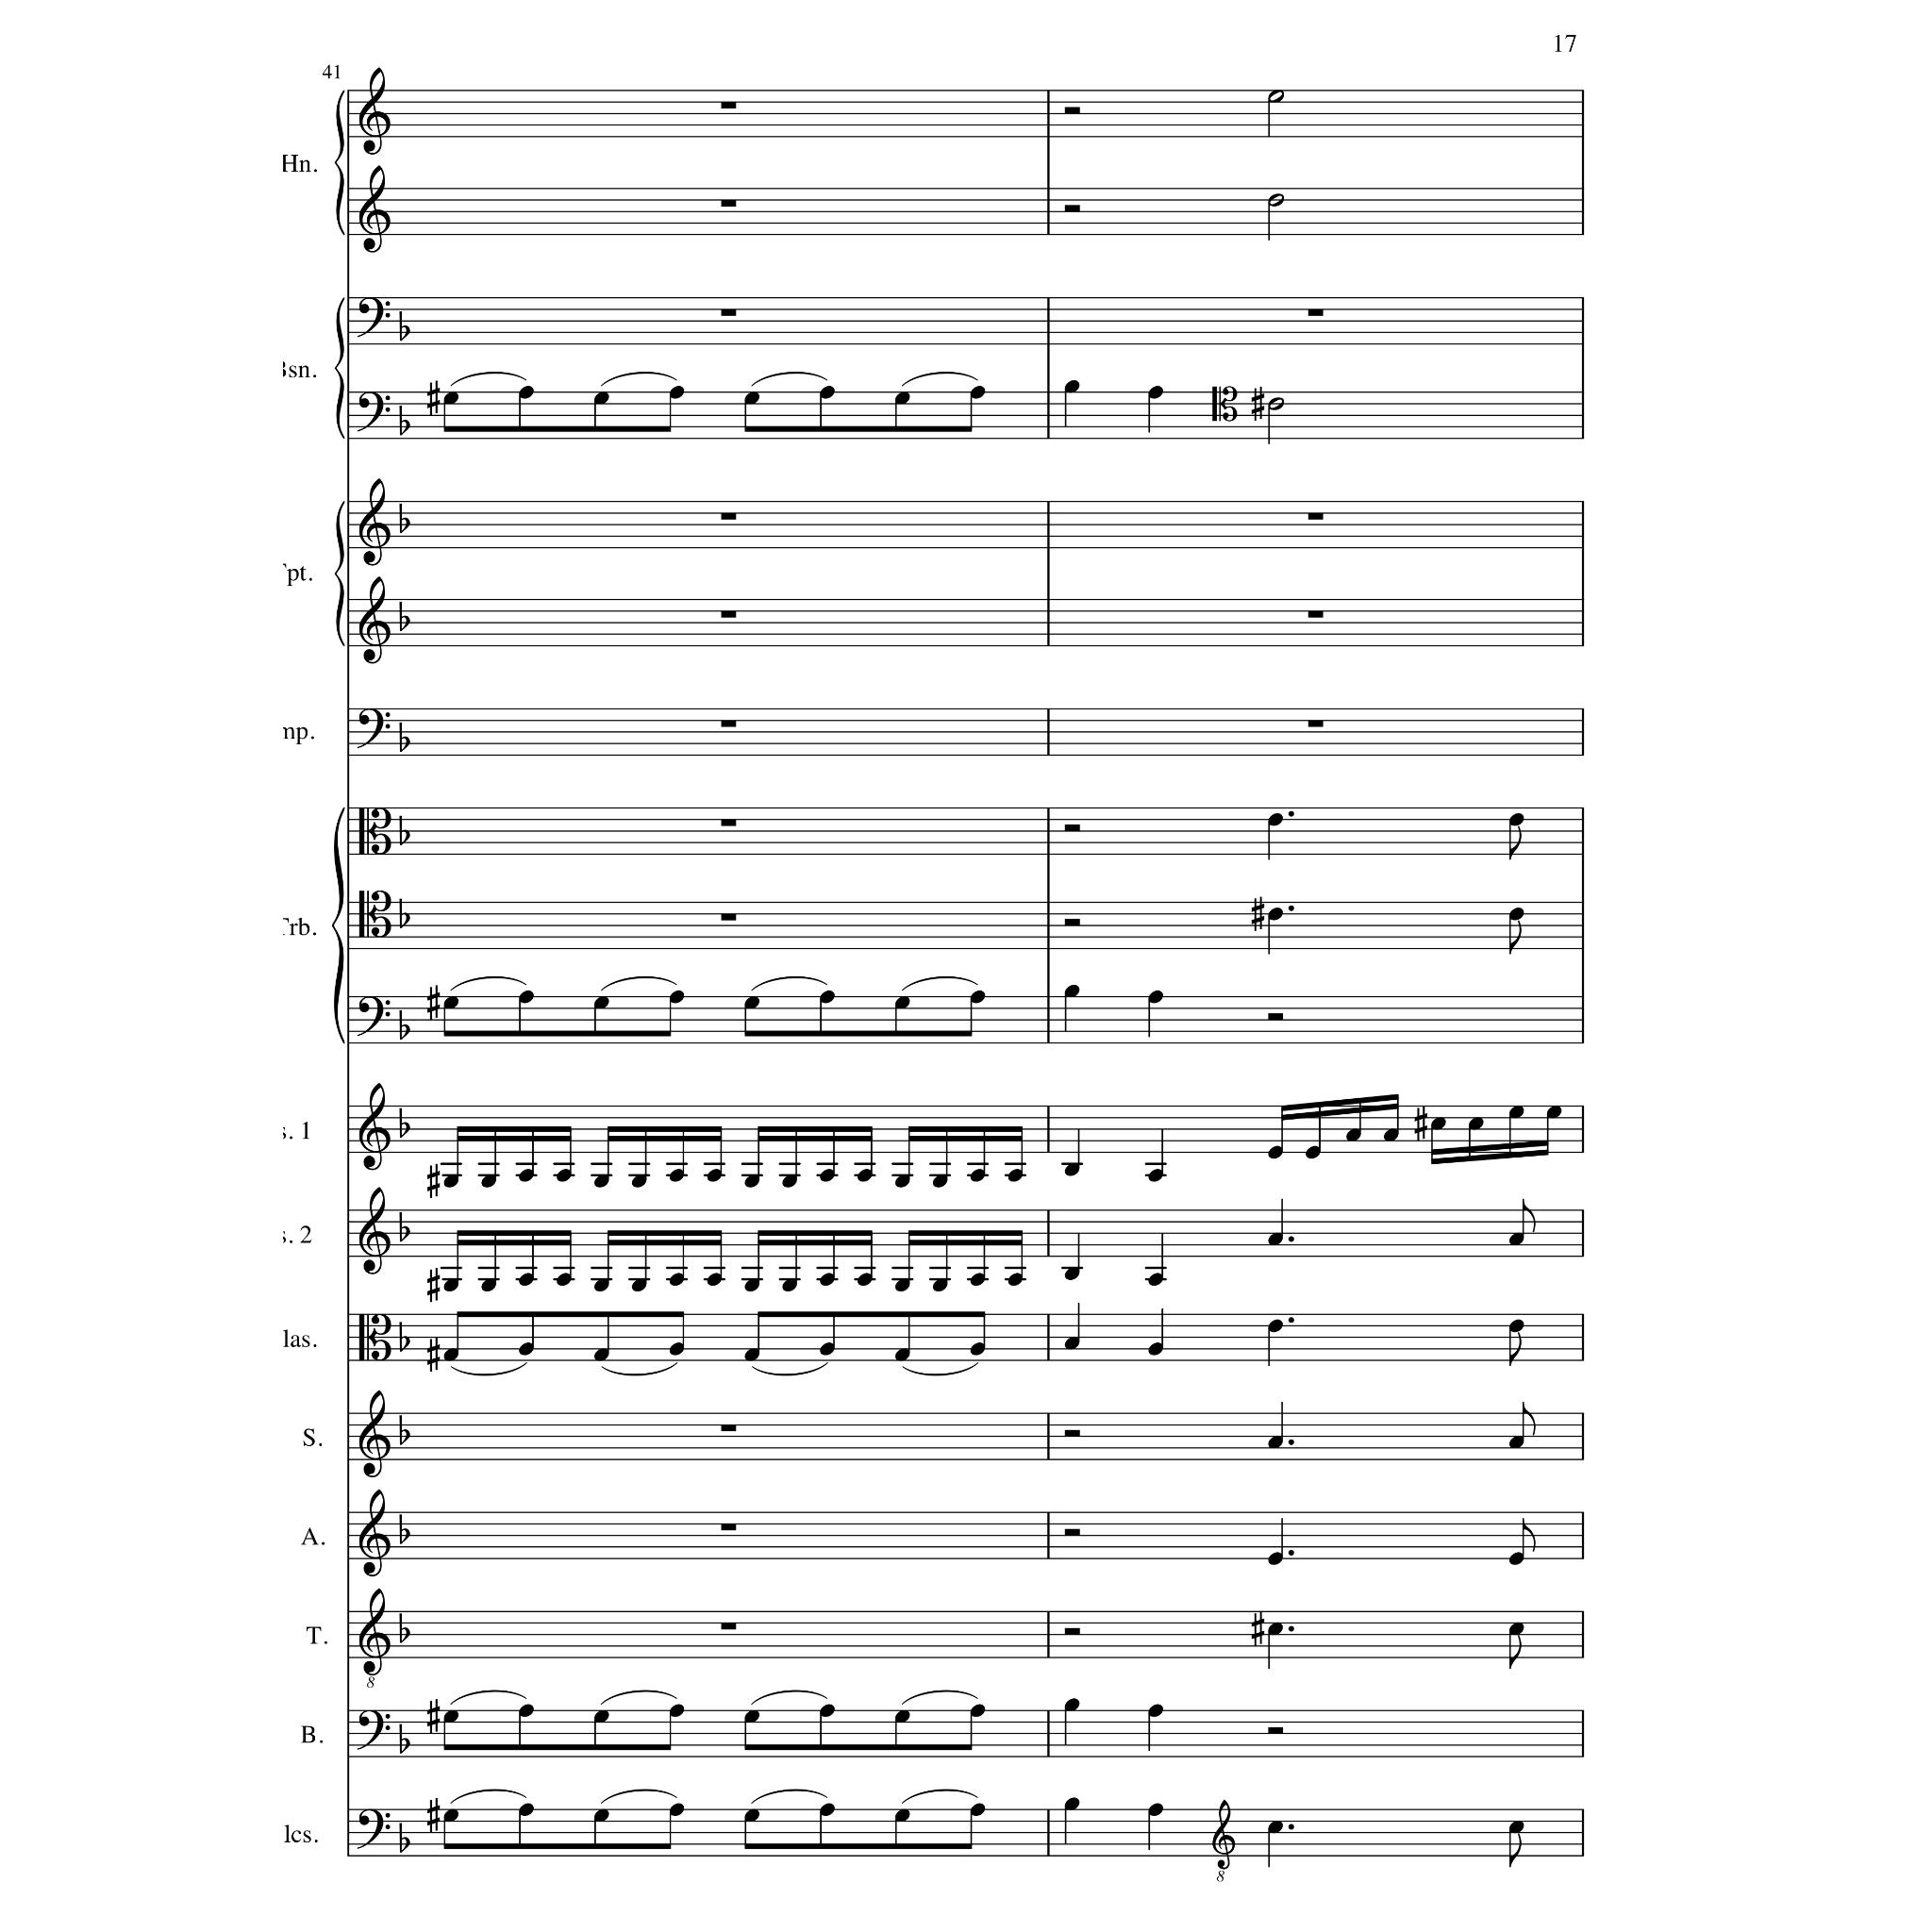brace: (330, 808, 345, 1045), (334, 502, 345, 647), (334, 91, 345, 236), (334, 298, 345, 440)
fClef: (357, 1709, 391, 1751), (357, 996, 391, 1038), (357, 1809, 391, 1849), (357, 392, 391, 432), (357, 298, 391, 338), (357, 709, 391, 749)
flag8thDown: (1509, 1832, 1521, 1868), (1509, 1332, 1521, 1366), (1509, 1635, 1521, 1669), (1509, 826, 1521, 860), (1509, 921, 1521, 955)
flag8thUp: (1523, 1402, 1536, 1436), (1523, 1519, 1536, 1553), (1523, 1199, 1536, 1233)
gClef: (358, 165, 391, 254), (358, 67, 391, 156), (358, 1187, 391, 1275), (358, 1390, 391, 1478), (358, 1083, 391, 1172), (358, 1588, 391, 1676), (358, 1489, 391, 1577), (358, 478, 391, 567), (358, 576, 391, 665)
noteheadBlack: (592, 391, 609, 406), (592, 1347, 609, 1362), (894, 1347, 911, 1362), (894, 391, 911, 406), (743, 391, 760, 406), (743, 1347, 760, 1362), (1268, 1319, 1283, 1334), (1268, 1232, 1283, 1247), (1268, 1551, 1283, 1566), (1064, 1796, 1079, 1811), (1509, 1232, 1524, 1247), (1509, 1551, 1524, 1566), (1509, 1319, 1524, 1334), (443, 1347, 458, 1362), (443, 391, 458, 406), (1147, 1804, 1164, 1817), (1147, 1704, 1164, 1717), (1147, 1342, 1164, 1356), (1147, 1274, 1164, 1287), (1147, 1169, 1164, 1182), (1147, 991, 1164, 1004), (1147, 386, 1164, 399), (1545, 1106, 1562, 1119), (1345, 1128, 1362, 1141), (1430, 1117, 1447, 1130), (592, 1174, 609, 1188), (592, 1808, 609, 1822), (592, 1710, 609, 1724), (592, 1279, 609, 1292), (592, 996, 609, 1009), (517, 1342, 534, 1356), (517, 1804, 534, 1817), (517, 1704, 534, 1717), (517, 1274, 534, 1287), (517, 1169, 534, 1182), (517, 991, 534, 1004), (517, 386, 534, 399), (781, 1279, 798, 1292), (781, 1174, 798, 1188), (819, 1804, 836, 1817), (819, 1704, 836, 1717), (819, 1342, 836, 1356), (819, 1274, 836, 1287), (819, 1169, 836, 1182), (819, 991, 836, 1004), (819, 386, 836, 399), (894, 1710, 911, 1724), (894, 1279, 911, 1292), (894, 1174, 911, 1188), (894, 996, 911, 1009), (894, 1808, 911, 1822), (668, 1804, 685, 1817), (668, 1704, 685, 1717), (668, 1342, 685, 1356), (668, 1274, 685, 1287), (668, 1169, 685, 1182), (668, 991, 685, 1004), (668, 386, 685, 399), (630, 1279, 647, 1292), (630, 1174, 647, 1188), (743, 1808, 760, 1822), (743, 1710, 760, 1724), (743, 1279, 760, 1292), (743, 1174, 760, 1188), (743, 996, 760, 1009), (706, 1169, 723, 1182), (706, 1274, 723, 1287), (1268, 1146, 1283, 1159), (1268, 908, 1283, 921), (1268, 813, 1283, 826), (1268, 1436, 1283, 1449), (970, 1704, 985, 1717), (1268, 1821, 1283, 1834), (1268, 1623, 1283, 1636), (1008, 1169, 1023, 1182), (1008, 1274, 1023, 1287), (1064, 380, 1079, 393), (1064, 985, 1079, 998), (1064, 1163, 1079, 1176), (1064, 1267, 1079, 1280), (1064, 1337, 1079, 1350), (1064, 1698, 1079, 1711), (970, 1804, 985, 1817), (1509, 1821, 1524, 1834), (1509, 1623, 1524, 1636), (1509, 1436, 1524, 1449), (1509, 1106, 1524, 1119), (1509, 908, 1524, 921), (1509, 813, 1524, 826), (1306, 1146, 1321, 1159), (1383, 1128, 1398, 1141), (1468, 1117, 1483, 1130), (481, 1279, 496, 1292), (481, 1174, 496, 1188), (443, 1174, 458, 1188), (443, 1808, 458, 1822), (443, 1710, 458, 1724), (443, 1279, 458, 1292), (443, 996, 458, 1009), (557, 1274, 572, 1287), (557, 1169, 572, 1182), (970, 1342, 985, 1356), (857, 1169, 872, 1182), (970, 1274, 985, 1287), (970, 1169, 985, 1182), (970, 991, 985, 1004), (970, 386, 985, 399), (932, 1279, 947, 1292), (932, 1174, 947, 1188), (857, 1274, 872, 1287)
noteheadHalf: (1267, 91, 1284, 104), (1267, 398, 1284, 411), (1267, 193, 1284, 207)
restHalf: (1064, 107, 1081, 114), (1064, 206, 1081, 213), (1064, 824, 1081, 832), (1064, 919, 1081, 926), (1064, 1429, 1081, 1437), (1064, 1528, 1081, 1536), (1064, 1628, 1081, 1636), (1268, 1013, 1283, 1021), (1268, 1727, 1283, 1735)
restWhole: (721, 721, 736, 728), (721, 611, 736, 619), (721, 513, 736, 521), (721, 309, 736, 317), (721, 200, 736, 208), (721, 102, 736, 109), (721, 820, 736, 827), (1307, 721, 1323, 728), (1307, 611, 1323, 619), (1307, 513, 1323, 521), (1307, 309, 1323, 317), (721, 1623, 736, 1630), (721, 1524, 736, 1531), (721, 1424, 736, 1432), (721, 914, 736, 922)
